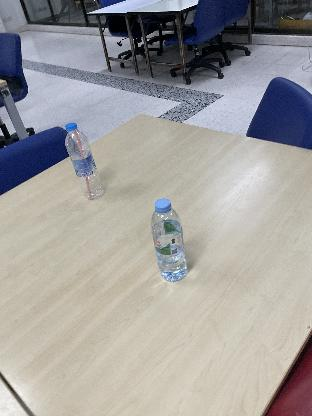Plastic Bottle: (60, 120, 108, 202), (151, 196, 192, 284)
